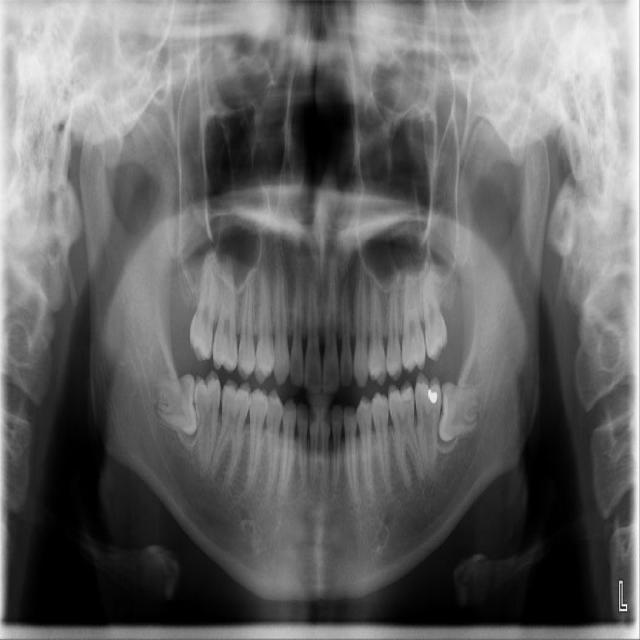Filling: (422, 384, 443, 410)
impacted tooth: (149, 373, 198, 435), (440, 383, 485, 442)
